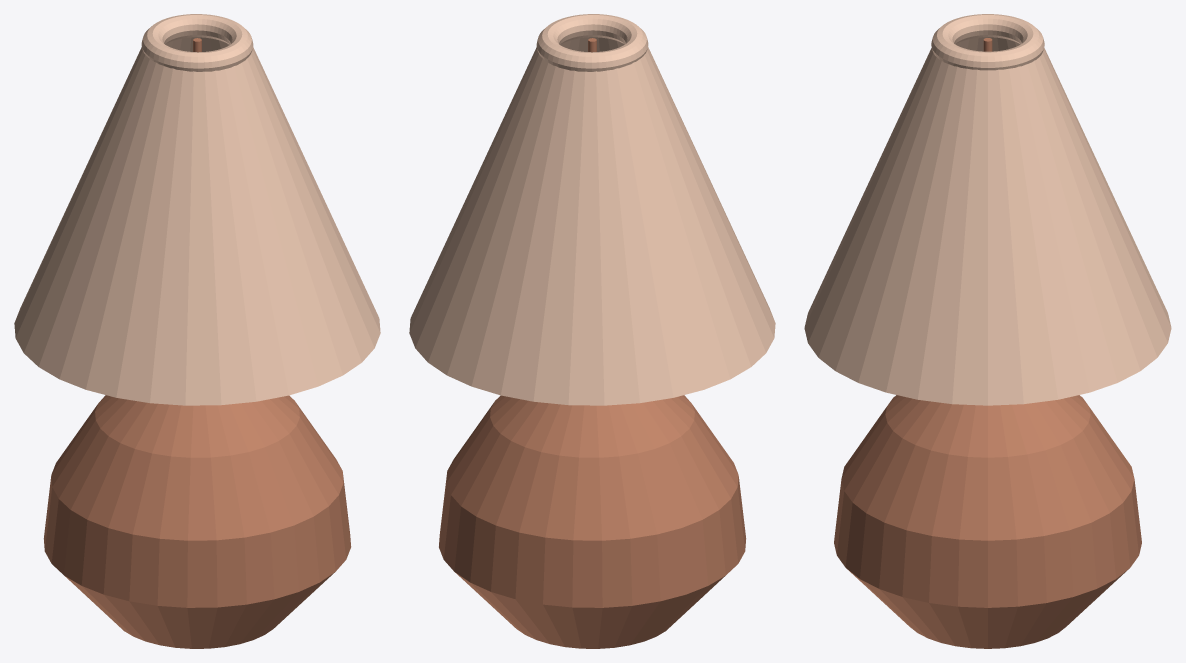
File: lampa_na_stol_by_szymon.fbx
The picture shows the model from 3 angles, left to right: view 1: azimuth 30°, elevation 25°; view 2: azimuth 150°, elevation 25°; view 3: azimuth 270°, elevation 25°; orthographic projection.
Parts seen in each view (by area): view 1: Walec.001; view 2: Walec.001; view 3: Walec.001.
Boxes of the visible parts, bbox=[...] form: Walec.001: bbox=[14, 14, 380, 648]; Walec.001: bbox=[409, 14, 775, 648]; Walec.001: bbox=[804, 14, 1171, 648].
Bounding box in the file's own units: 2 × 3.48 × 2.
